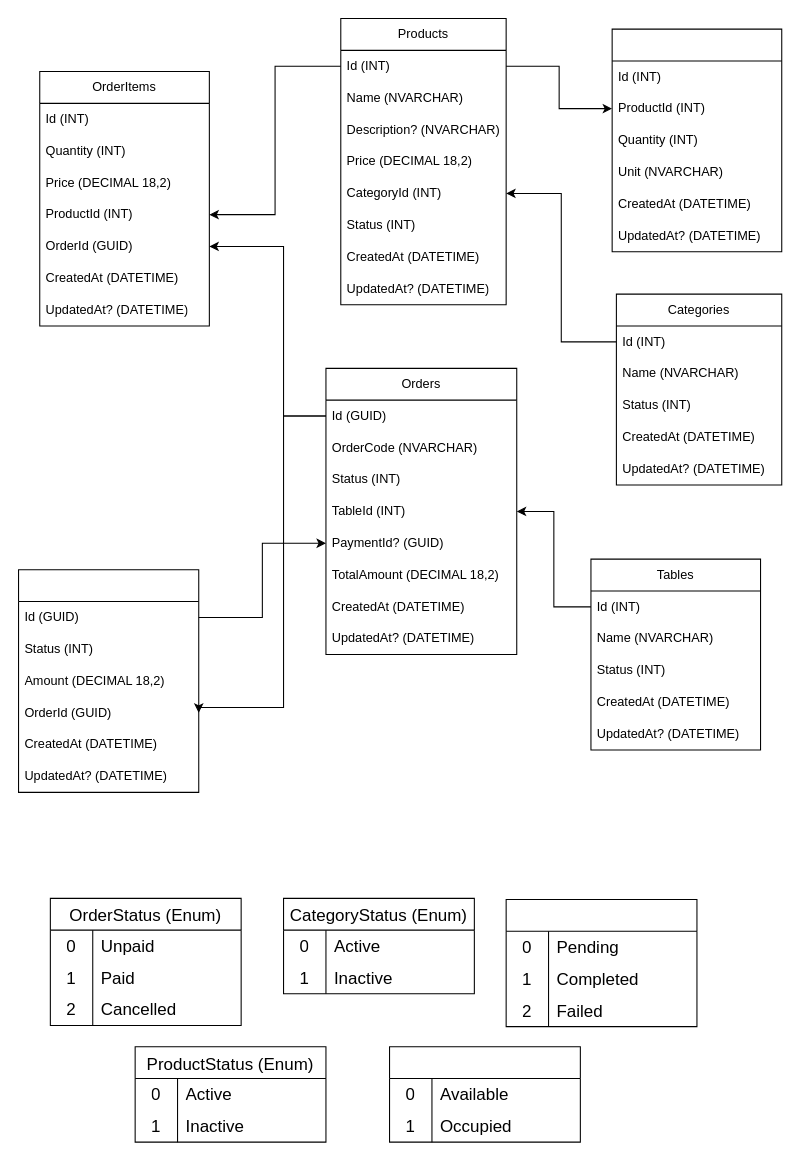
This 800x1161 diagram has some shape labels left out. The box of each missing label's shape, as (x1, y1, x2, y2) in pixels:
Payments: (17, 569, 199, 792)
PaymentStatus (Enum): (505, 898, 697, 1027)
Stocks: (611, 28, 782, 252)
TableStatus (Enum): (388, 1046, 580, 1142)
